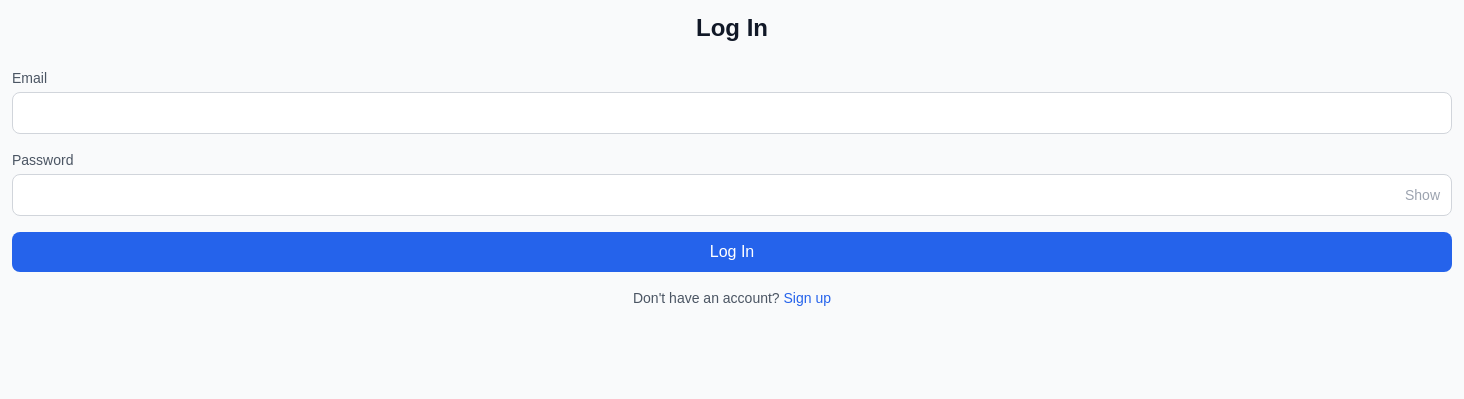
Login page › shows a network message when the server cannot be reached
Type "claimant@demo.com" into the field labelled "Email".
click(732, 113); type("claimant@demo.com")  # box top-left (12, 92), bottom-right (1452, 134)
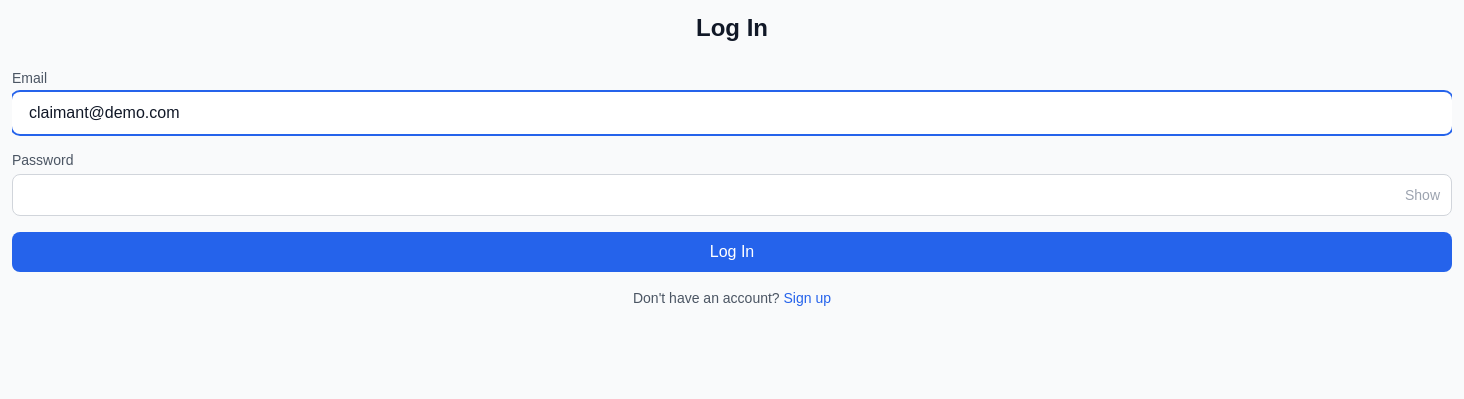
Type "Claimant123!" into the password field labelled "Password".
click(732, 195); type("Claimant123!")  # box top-left (12, 174), bottom-right (1452, 216)
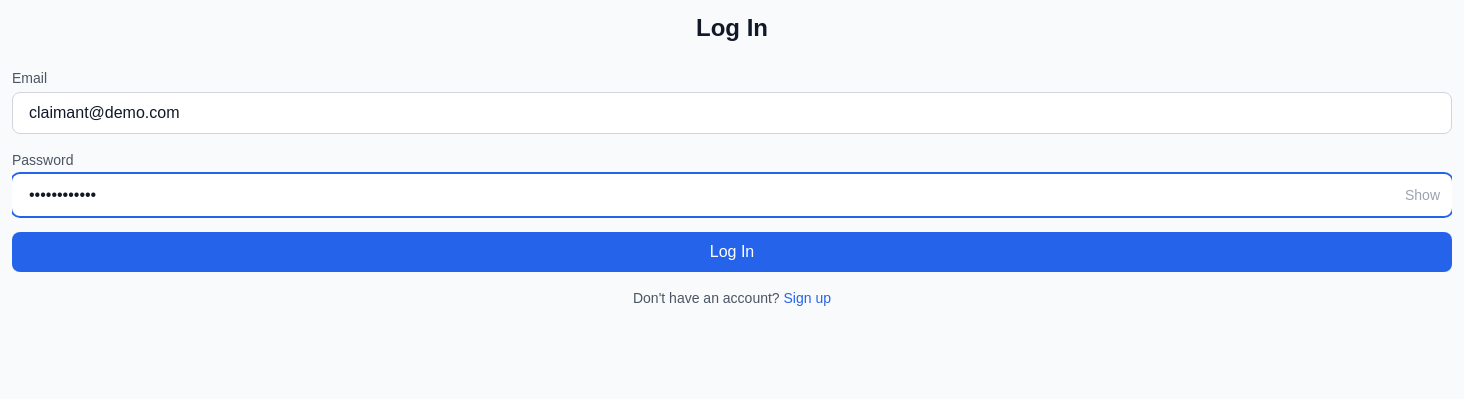
Click the button "Log In".
click(732, 252)  # box top-left (12, 232), bottom-right (1452, 272)
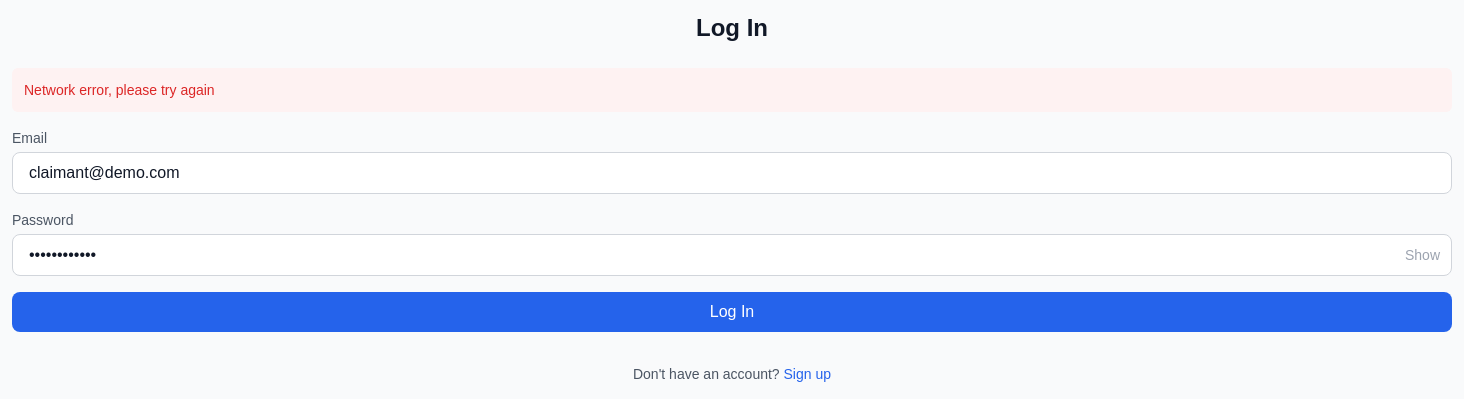
Now the message shows "Network error", box top-left (24, 82), bottom-right (215, 98)
